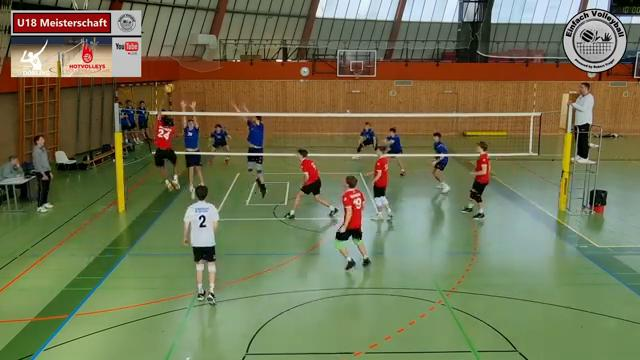attacco: (150, 91, 181, 195)
muro: (233, 101, 273, 201), (180, 99, 208, 203)
